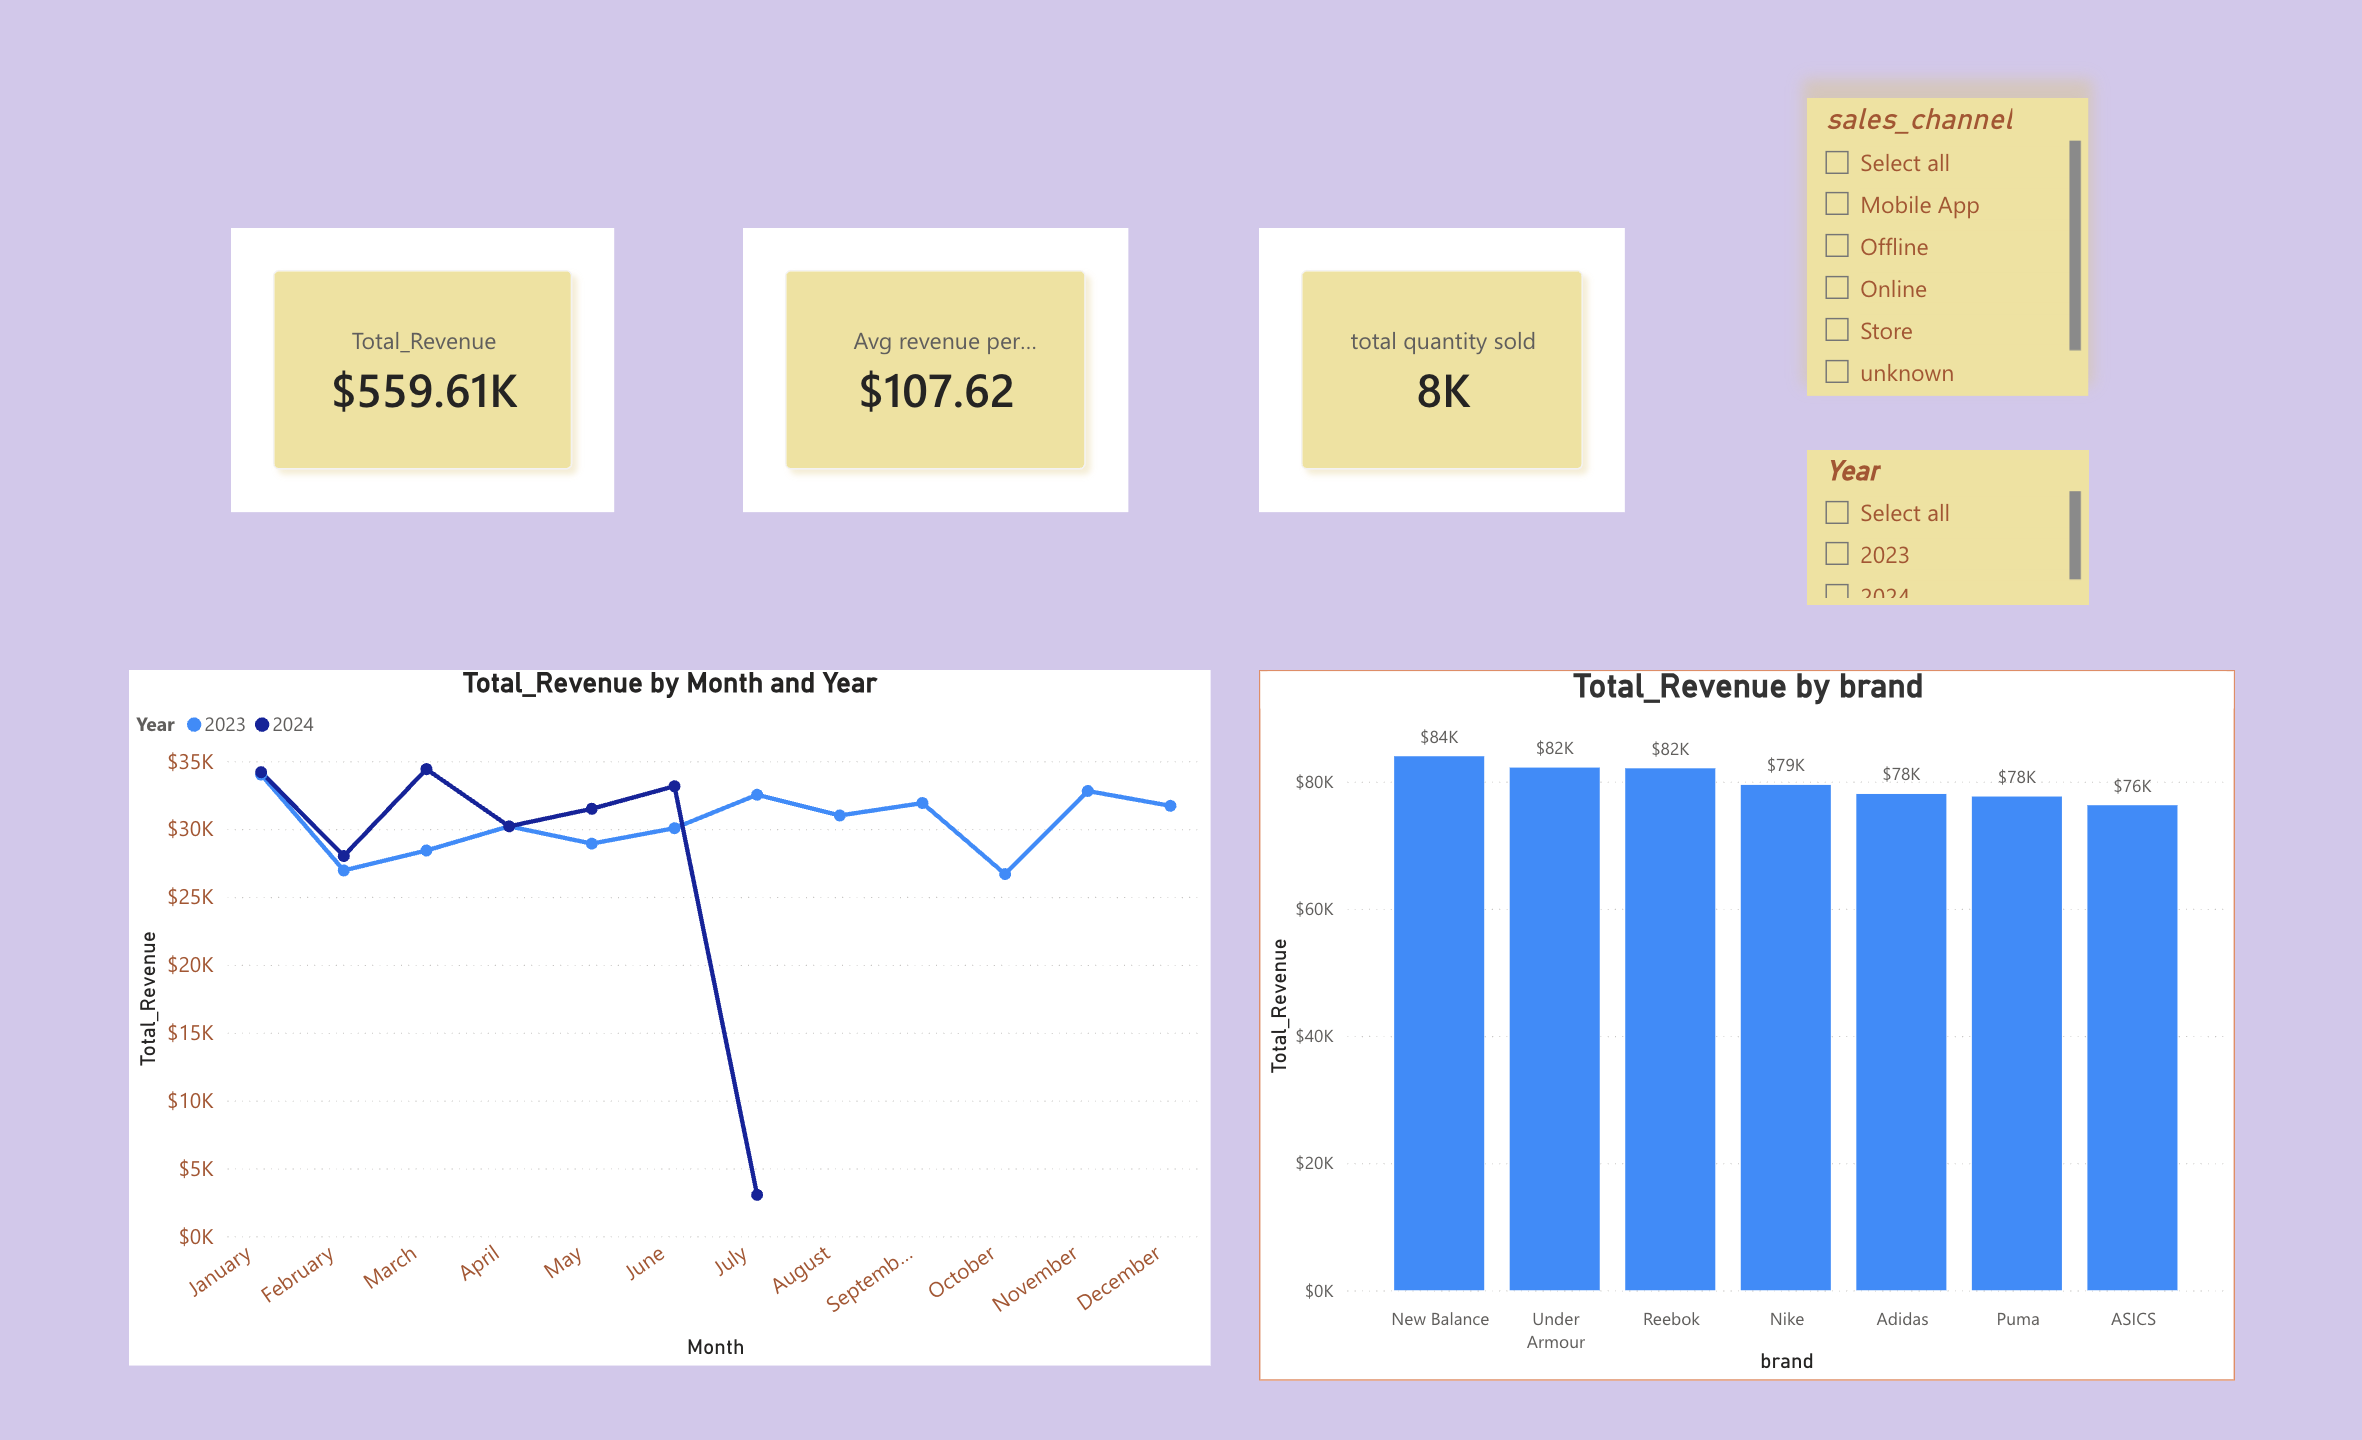

The dashboard page shown, as its layout file describes it:
{"tool":"powerbi","page":{"name":"Executive Summary","canvas":[1500,1000],"ordinal":0},"visuals":[{"type":"cardVisual","fields":{"Data":["cleaned sports sales 1.total quantity sold"]},"box":[802.9,162.4,253.2,196.6],"z":0},{"type":"cardVisual","fields":{"Data":["cleaned sports sales 1.Total_Revenue"]},"box":[90.9,162.4,265.1,196.6],"z":1000},{"type":"cardVisual","fields":{"Data":["cleaned sports sales 1.Avg revenue per transcation"]},"box":[445.4,162.4,266.6,196.6],"z":2000},{"type":"lineChart","fields":{"Y":["cleaned sports sales 1.Total_Revenue"],"Category":["cleaned sports sales 1.order_date_new.Variation.Date Hierarchy.Month"],"Series":["cleaned sports sales 1.order_date_new.Variation.Date Hierarchy.Year"]},"box":[21,467.6,748.1,480.9],"z":3000},{"type":"columnChart","fields":{"Category":["cleaned sports sales 1.brand"],"Y":["cleaned sports sales 1.Total_Revenue"]},"box":[802.9,467.7,674.8,491.6],"z":4000},{"type":"slicer","fields":{"Values":["cleaned sports sales 1.order_date_new.Variation.Date Hierarchy.Year"]},"box":[1181.3,314.9,194.7,106.9],"z":5000},{"type":"slicer","fields":{"Values":["cleaned sports sales 1.sales_channel"]},"box":[1181.3,72.5,194.7,206.1],"z":6000}]}

Visuals, with their boxes on the page's 1500x1000 design canvas (x1, y1, x2, y2). These are canvas units, not pixel positions in the 2362x1440 screenshot, which may show the page scaled, cropped or inside an application window:
cardVisual - cleaned sports sales 1.total quantity sold: [803,162,1056,359]
cardVisual - cleaned sports sales 1.Total_Revenue: [91,162,356,359]
cardVisual - cleaned sports sales 1.Avg revenue per transcation: [445,162,712,359]
lineChart - cleaned sports sales 1.Total_Revenue x cleaned sports sales 1.order_date_new.Variation.Date Hierarchy.Month: [21,468,769,948]
columnChart - cleaned sports sales 1.brand x cleaned sports sales 1.Total_Revenue: [803,468,1478,959]
slicer - cleaned sports sales 1.order_date_new.Variation.Date Hierarchy.Year: [1181,315,1376,422]
slicer - cleaned sports sales 1.sales_channel: [1181,72,1376,279]
